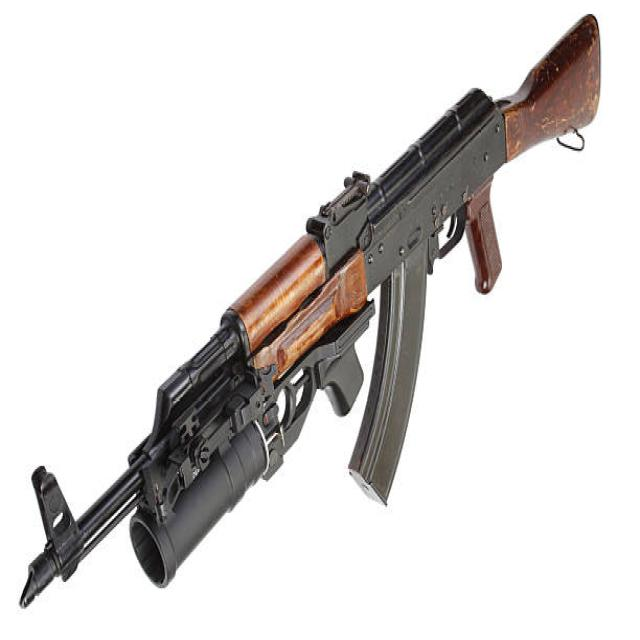rifle: (16, 6, 610, 611)
